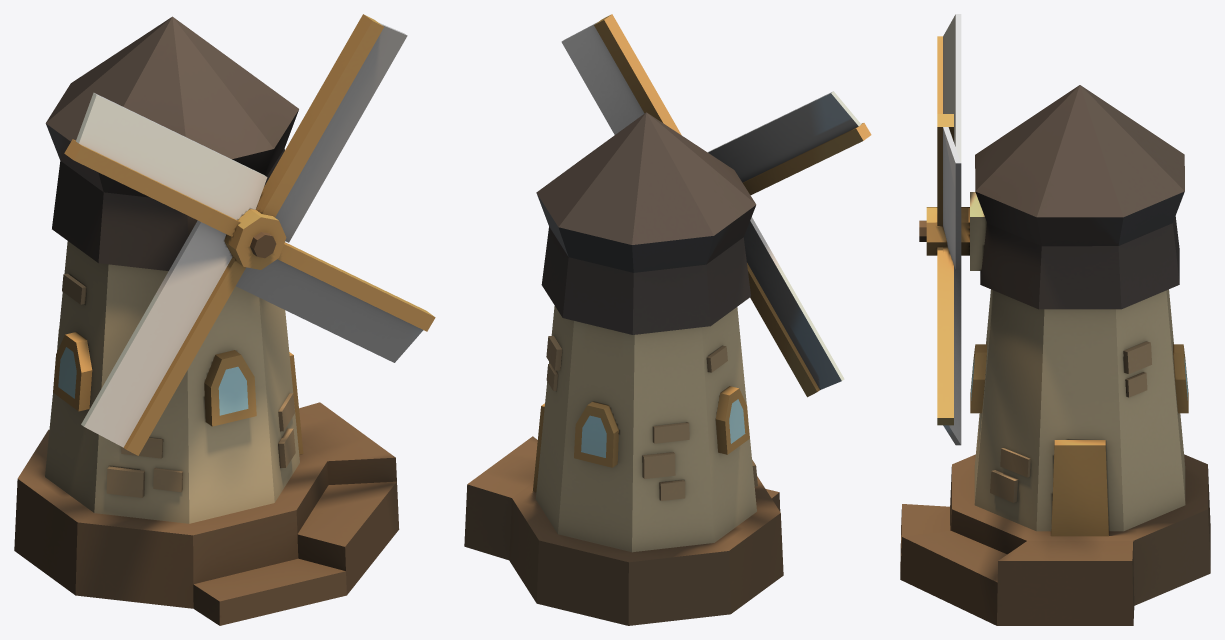
File: PUSHILIN_windmill.gltf
The picture shows the model from 3 angles, left to right: view 1: azimuth 30°, elevation 25°; view 2: azimuth 150°, elevation 25°; view 3: azimuth 270°, elevation 25°; orthographic projection. The views are drawn at different scales.
Parts seen in each view (by area): view 1: node-0; view 2: node-0; view 3: node-0.
Boxes of the visible parts, x1,y1,x2,y2 form: node-0: [14, 14, 435, 625]; node-0: [464, 14, 871, 625]; node-0: [900, 14, 1210, 625].
Size of the model in its own units: 1.63 by 2.36 by 1.36.
1 material, 1 textured.
